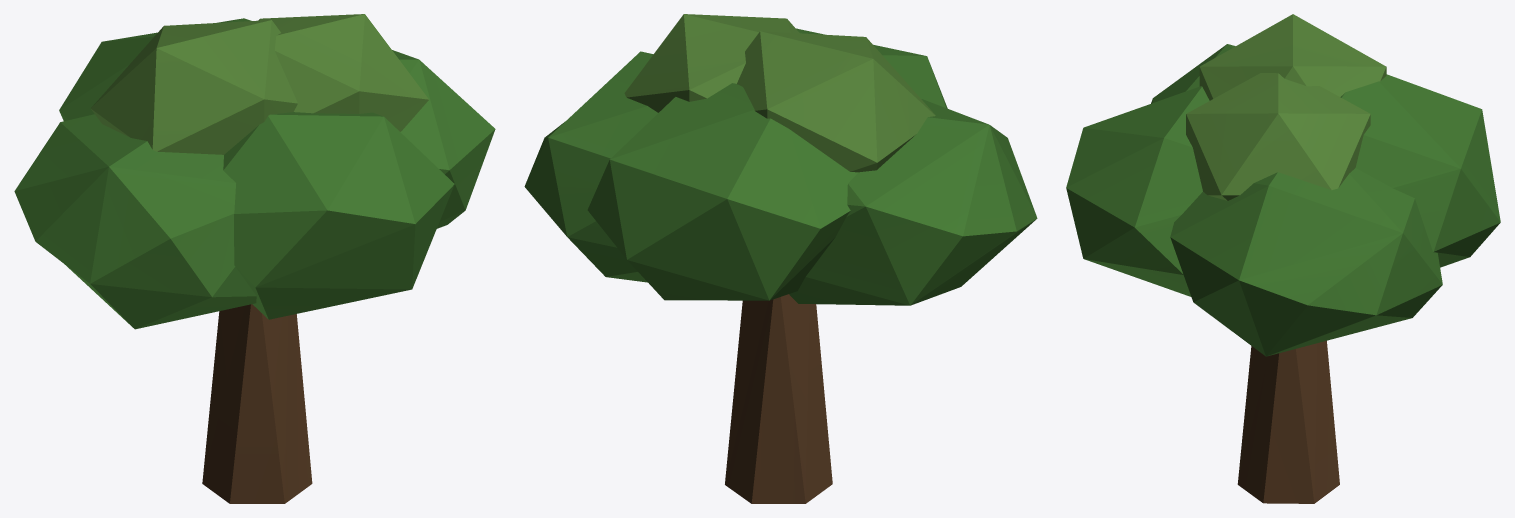
Rendered from prop_oak_lod2.glb.
3 views of the same model, side by side, from view 1: azimuth 30°, elevation 25°; view 2: azimuth 150°, elevation 25°; view 3: azimuth 270°, elevation 25° (orthographic). The views are drawn at different scales.
Parts seen in each view (by area): view 1: prop_oak_lod2; view 2: prop_oak_lod2; view 3: prop_oak_lod2.
Part boxes in pixels (bbox=[...]): prop_oak_lod2: bbox=[14, 14, 495, 503]; prop_oak_lod2: bbox=[524, 14, 1037, 503]; prop_oak_lod2: bbox=[1066, 14, 1500, 503].
Size of the model in its own units: 4.72 by 4.5 by 4.15.
